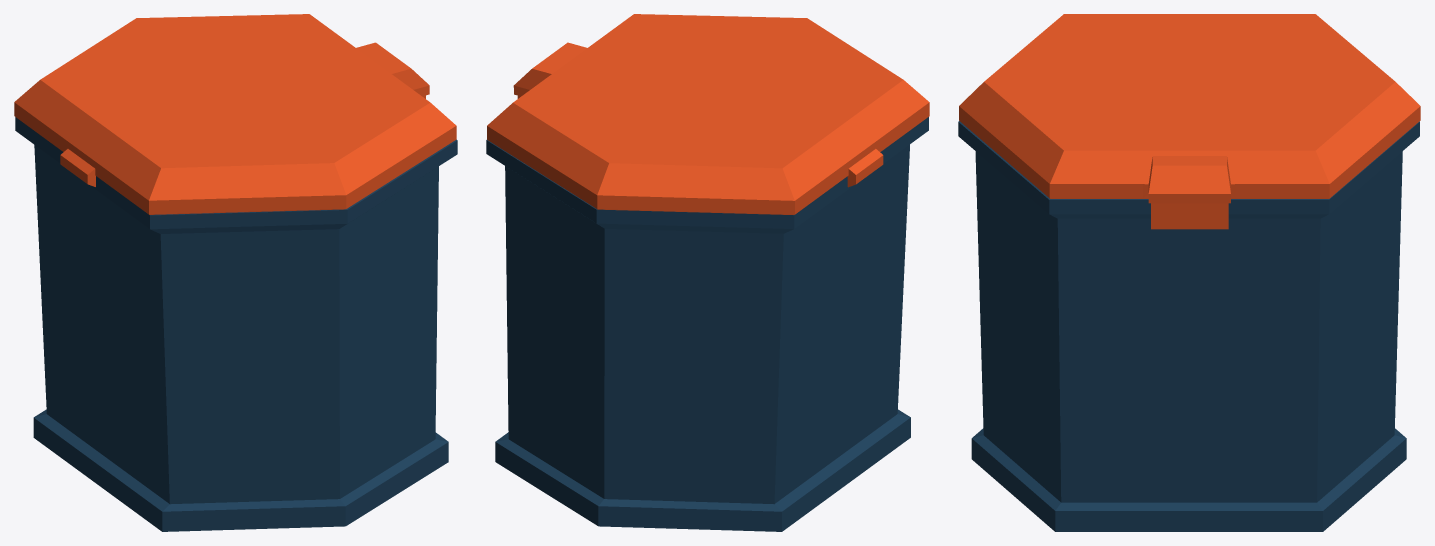
The model's file is Compost.fbx.
The picture shows the model from 3 angles, left to right: view 1: azimuth 30°, elevation 25°; view 2: azimuth 150°, elevation 25°; view 3: azimuth 270°, elevation 25°; orthographic projection. The views are drawn at different scales.
Visible parts, largest first — view 1: Compost, Tapa; view 2: Compost, Tapa; view 3: Compost, Tapa.
Boxes of the visible parts, <box> form: Compost: <box>15,117,457,531</box>; Tapa: <box>14,14,456,214</box>; Compost: <box>486,117,928,531</box>; Tapa: <box>487,14,929,214</box>; Compost: <box>958,121,1419,531</box>; Tapa: <box>959,14,1420,229</box>.
Bounding box in the file's own units: 4.74 × 4.86 × 5.44.
